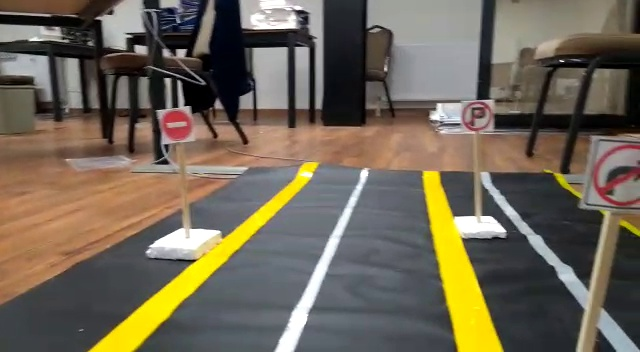girisi_olmayan_yol: (158, 109, 195, 140)
park_yapilmaz: (457, 102, 496, 134)
saga_donulmez: (588, 137, 640, 207)
